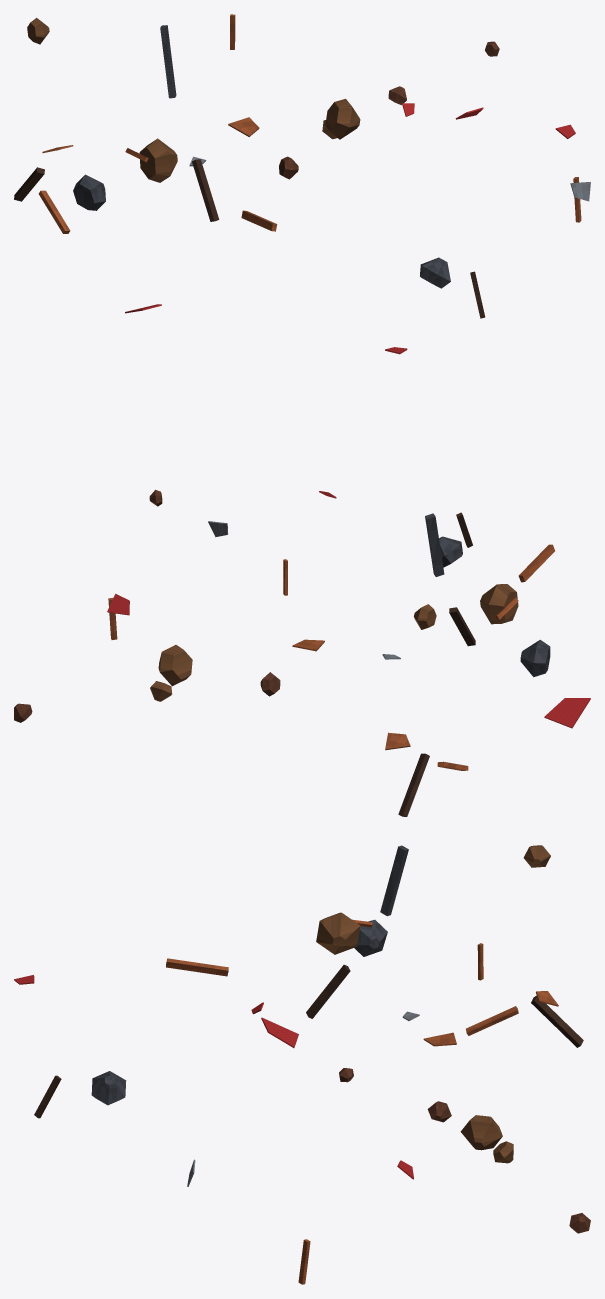
Rendered from SM_Env_DebrisField_HQ.glb.
3 renders of one model, top to bottom at view 1: azimuth 30°, elevation 25°; view 2: azimuth 150°, elevation 25°; view 3: azimuth 270°, elevation 25°, orthographic. The views are drawn at different scales.
Parts seen in each view (by area): view 1: SM_Env_DebrisField_HQ; view 2: SM_Env_DebrisField_HQ; view 3: SM_Env_DebrisField_HQ.
Part boxes in pixels (left/top/right/bottom): SM_Env_DebrisField_HQ: left=14, top=14, right=590, bottom=318; SM_Env_DebrisField_HQ: left=14, top=347, right=590, bottom=816; SM_Env_DebrisField_HQ: left=14, top=845, right=590, bottom=1284.
Size of the model in its own units: 30.8 by 15.57 by 31.96.
1 material, 1 textured.
